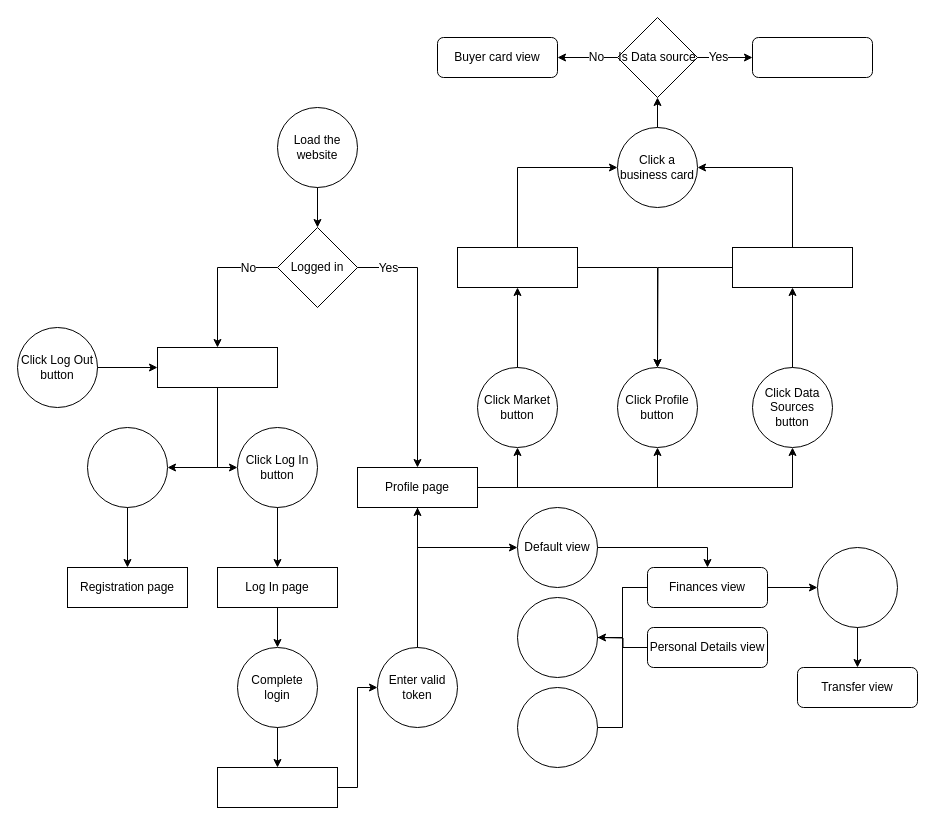
This 935x825 diagram has some shape labels left out. The shapes that lost their labels are listed below. From the top down, each one's centre as x and y in pixels, then its label:
point (812, 57): Data card view
point (517, 267): Market page
point (792, 267): Data Sources page
point (217, 367): Home page
point (127, 467): Click Sign Up button
point (857, 587): Click Transfer button
point (557, 637): Click Finances button
point (557, 727): Click Personal Details button
point (277, 787): MFA page
